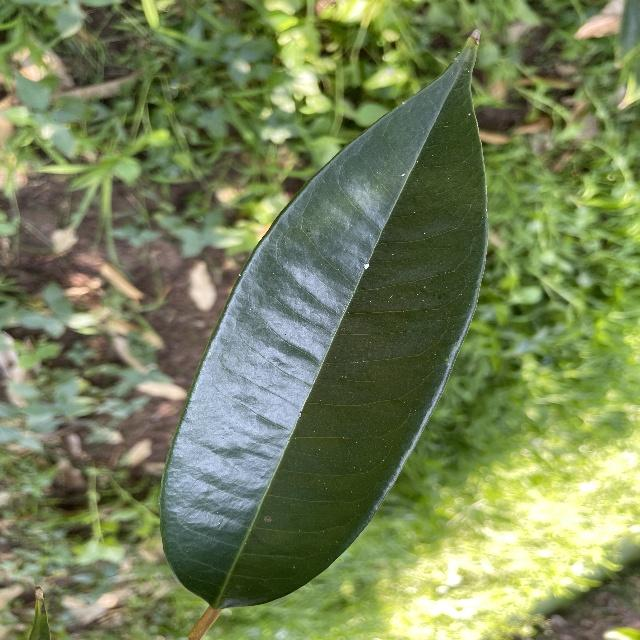No Disease: (151, 24, 499, 621)
